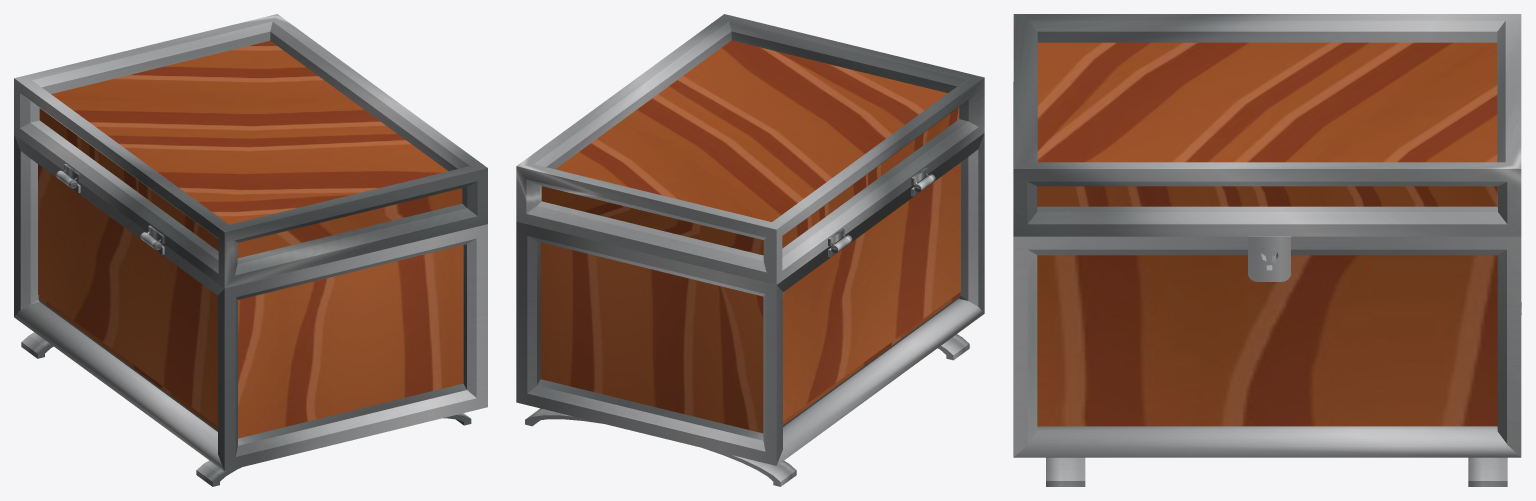
File: Chest.fbx
3 renders of one model, left to right at view 1: azimuth 30°, elevation 25°; view 2: azimuth 150°, elevation 25°; view 3: azimuth 270°, elevation 25°, orthographic. The views are drawn at different scales.
Parts seen in each view (by area): view 1: Cylinder.004, Cube, Cube.004, Cube.001; view 2: Cylinder.004, Cube, Cube.001; view 3: Cube, Cylinder.004, Cube.002, Cube.001, Cube.004.
Part boxes in pixels (x1,y1,x2,y2): Cylinder.004: (14, 134, 487, 471); Cube: (14, 14, 487, 288); Cube.004: (196, 413, 471, 486); Cube.001: (21, 332, 53, 358); Cylinder.004: (516, 133, 984, 465); Cube: (516, 14, 984, 284); Cube.001: (525, 408, 796, 486); Cube: (1013, 14, 1521, 236); Cylinder.004: (1013, 82, 1521, 457); Cube.002: (1248, 236, 1290, 281); Cube.001: (1468, 457, 1507, 486); Cube.004: (1046, 457, 1085, 486).
Bounding box in the file's own units: 207 × 191 × 275.
